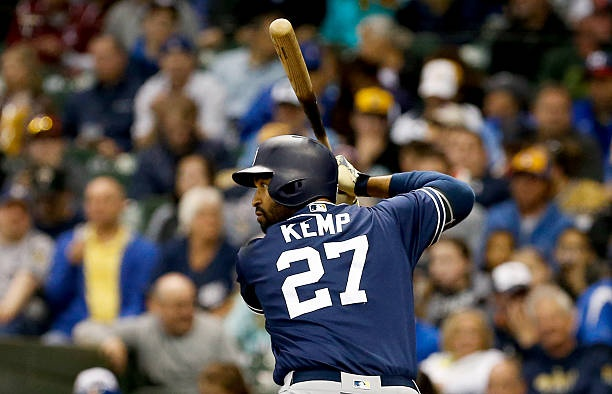bita: (269, 18, 329, 144)
